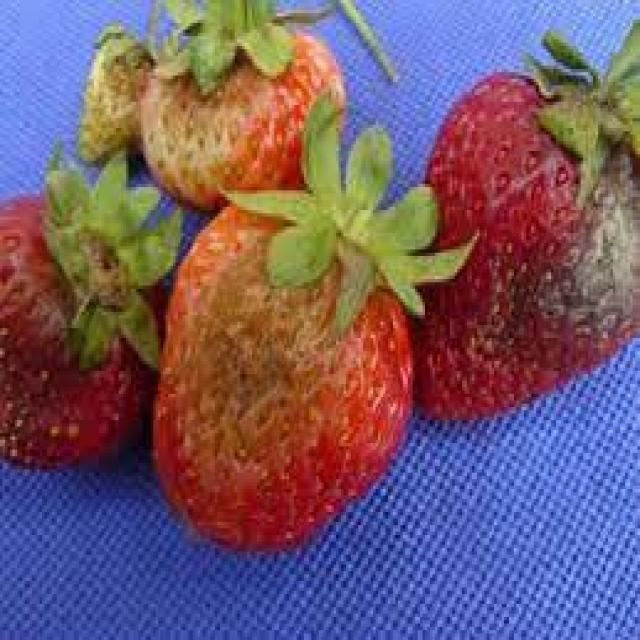Podredumbre de cuero: (144, 192, 413, 550), (413, 65, 640, 416), (73, 7, 340, 190), (0, 192, 147, 464)
